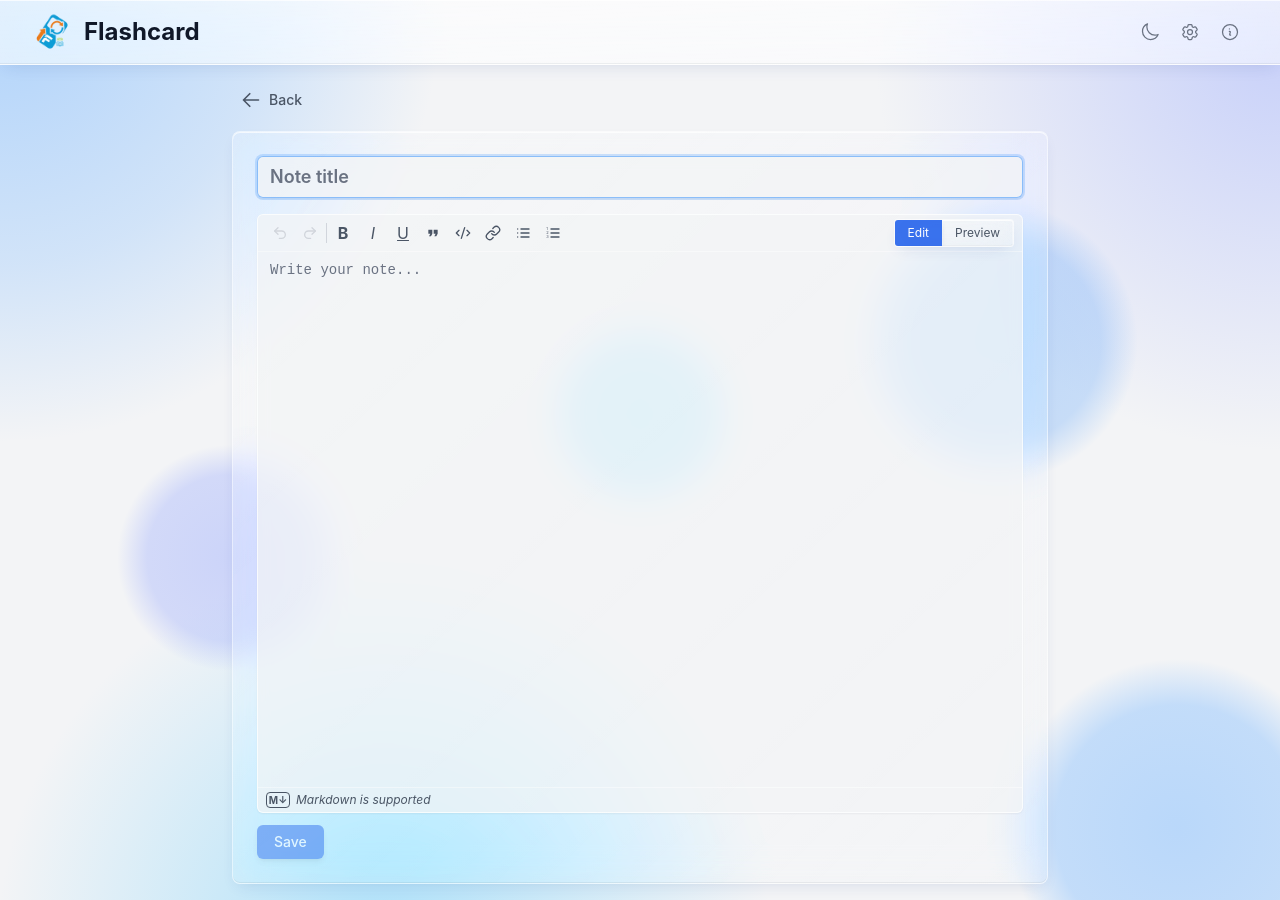
Test: NoteCreatePage › confirms before leaving when Back is pressed and content has been entered and the user discards
Type "Draft text" into the text box with placeholder "Write your note...".
click(640, 520); type("Draft text")  # box [258,252,1022,787]
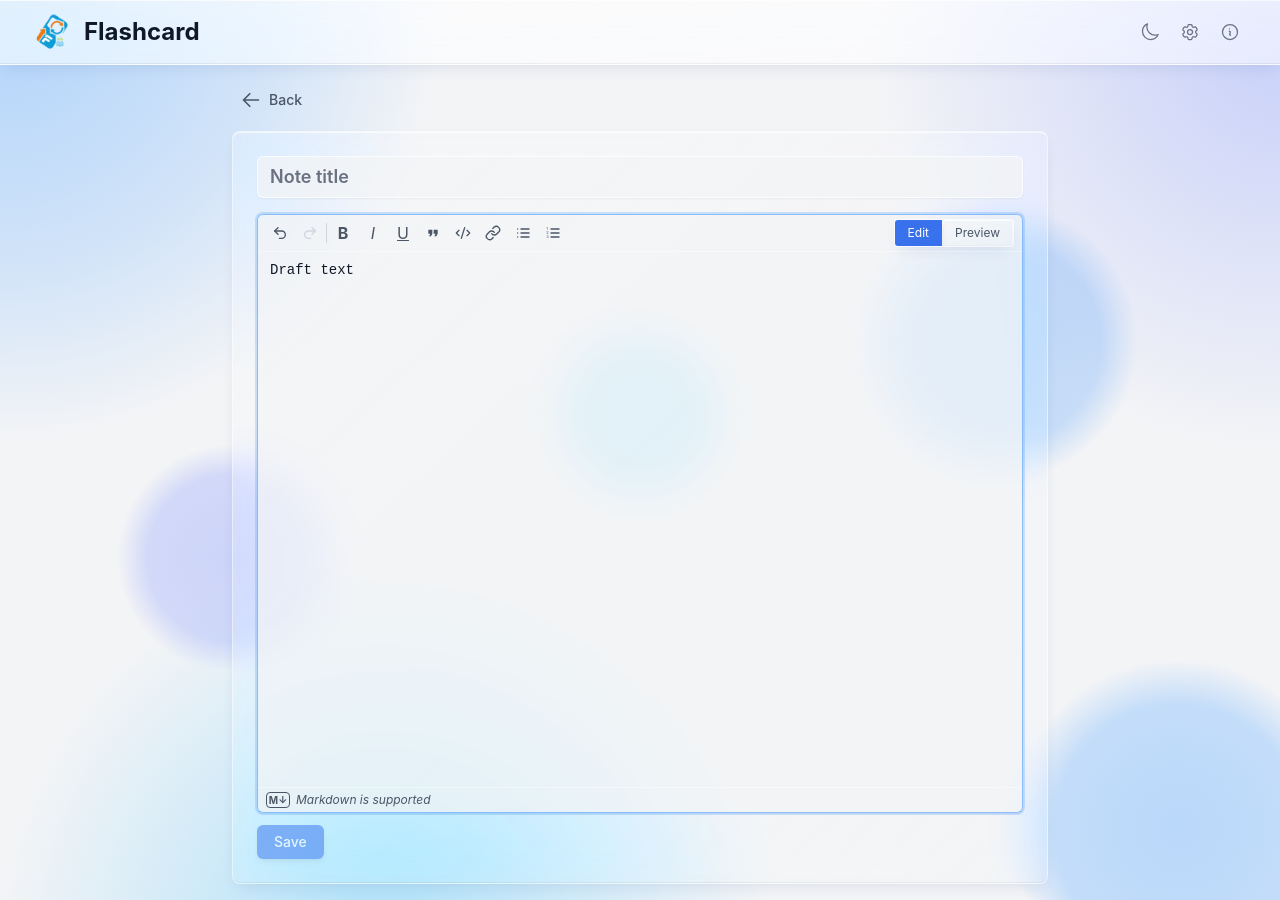
Click the button with aria-label "Go back".
click(272, 100)  # box [232,81,311,119]
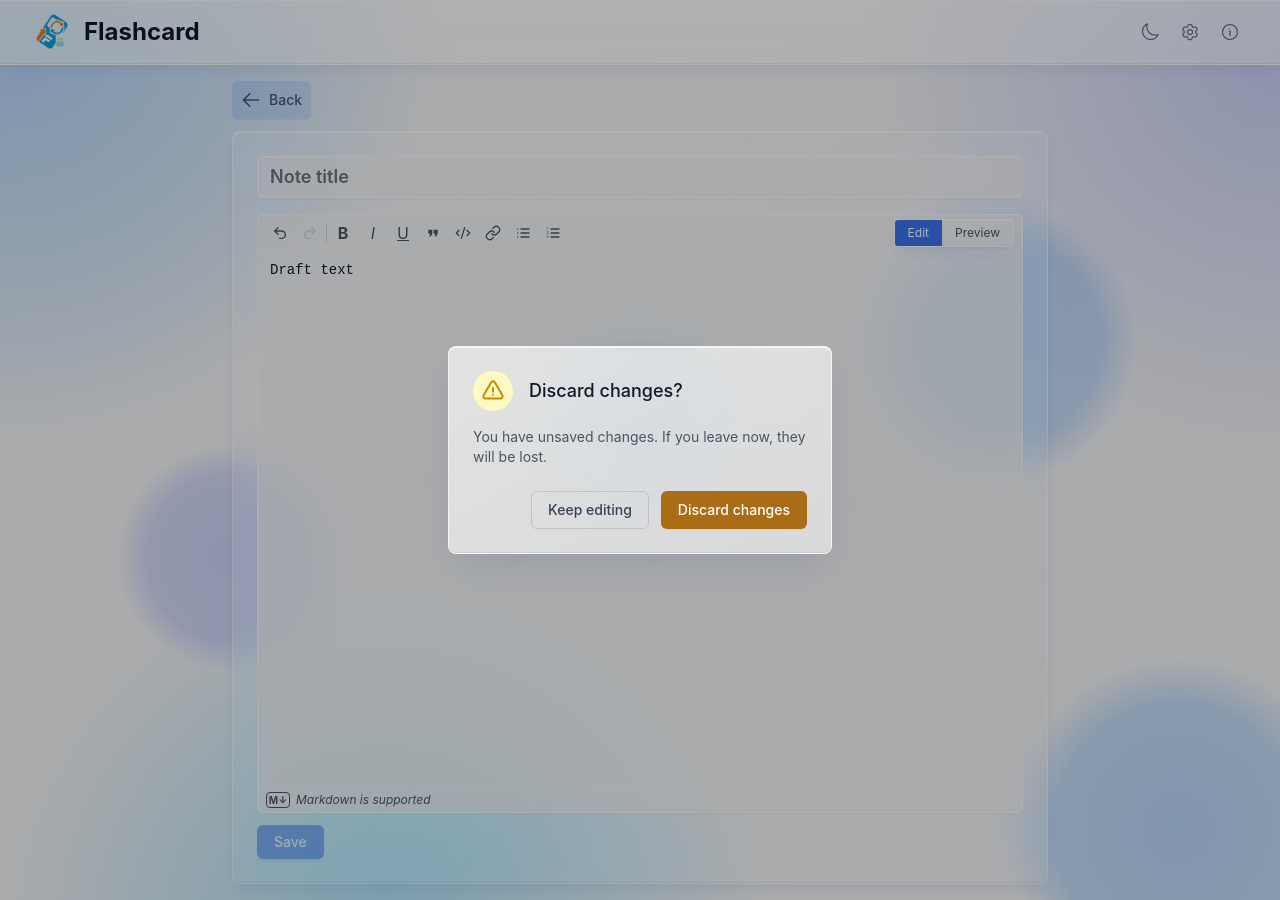
Expected: the heading "Discard changes?" is shown, [529,377,683,405]
Click the button "Discard changes".
click(734, 510)  # box [661,491,807,529]
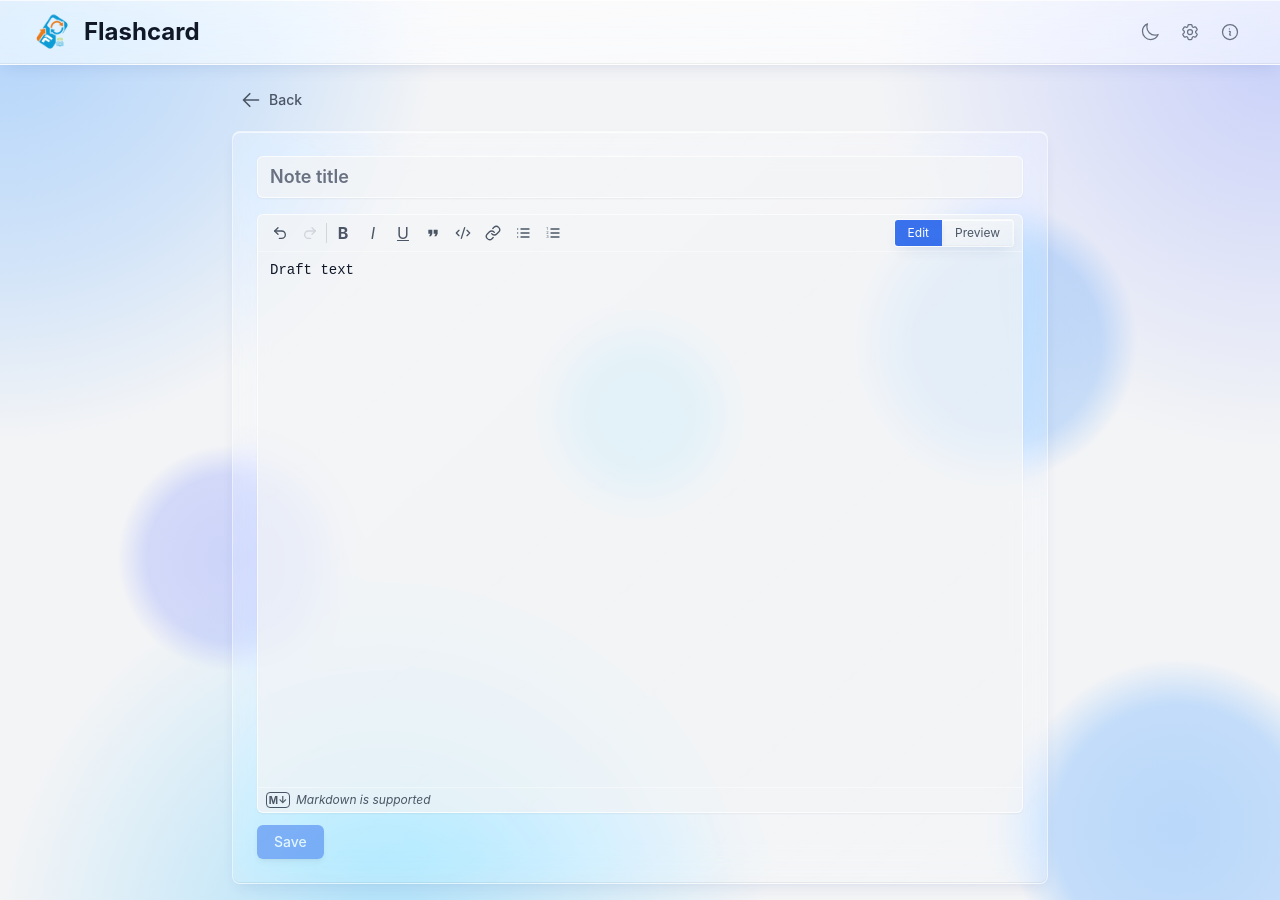
Expected: the heading "Discard changes?" is gone
